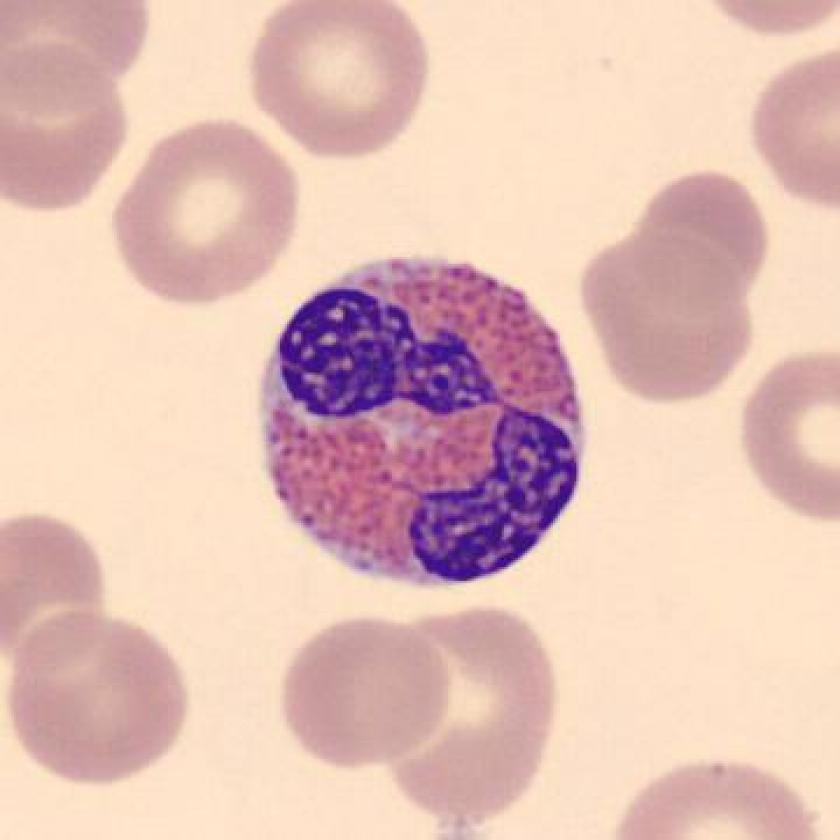eosinophil: (253, 242, 598, 598)
